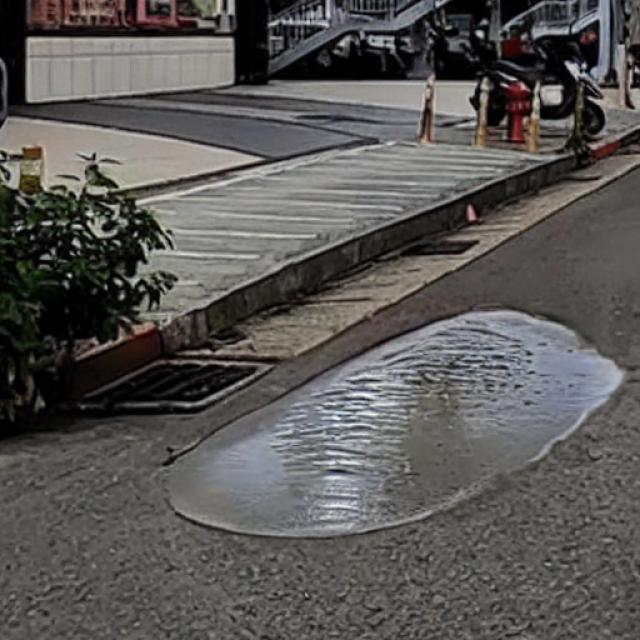puddle: (168, 306, 626, 536)
